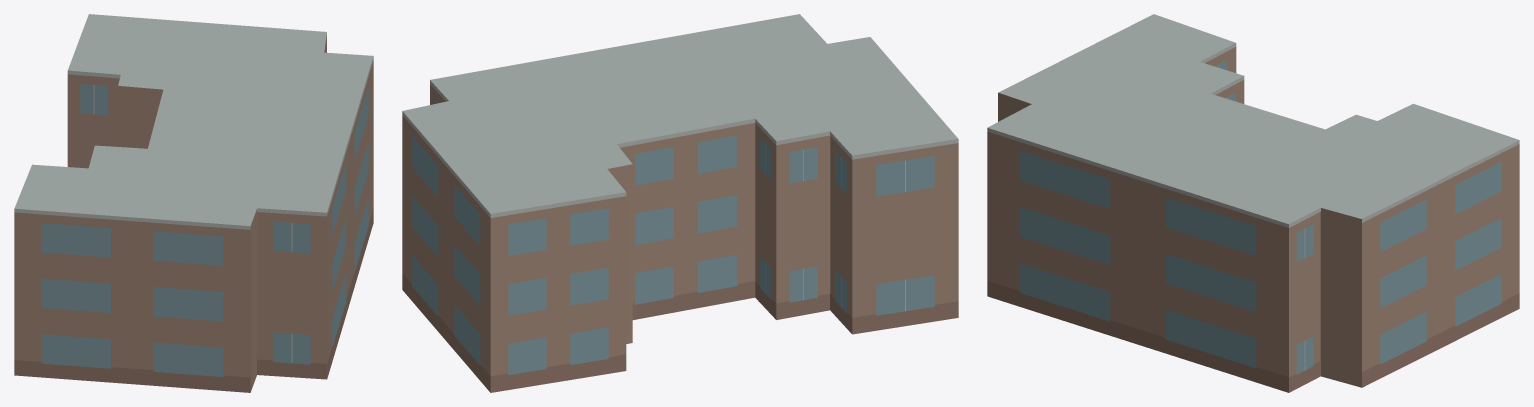
Rendered from survey-upis-32842073.glb.
3 views of the same model, side by side, from view 1: azimuth 30°, elevation 25°; view 2: azimuth 150°, elevation 25°; view 3: azimuth 270°, elevation 25° (orthographic). The views are drawn at different scales.
Visible parts, largest first — view 1: survey-upis-32842073.tmp; view 2: survey-upis-32842073.tmp; view 3: survey-upis-32842073.tmp.
Part boxes in pixels (x1,y1,x2,y2): survey-upis-32842073.tmp: (14, 14, 373, 392); survey-upis-32842073.tmp: (402, 14, 958, 392); survey-upis-32842073.tmp: (987, 14, 1519, 392).
Bounding box in the file's own units: 28.89 × 10.8 × 30.91.
